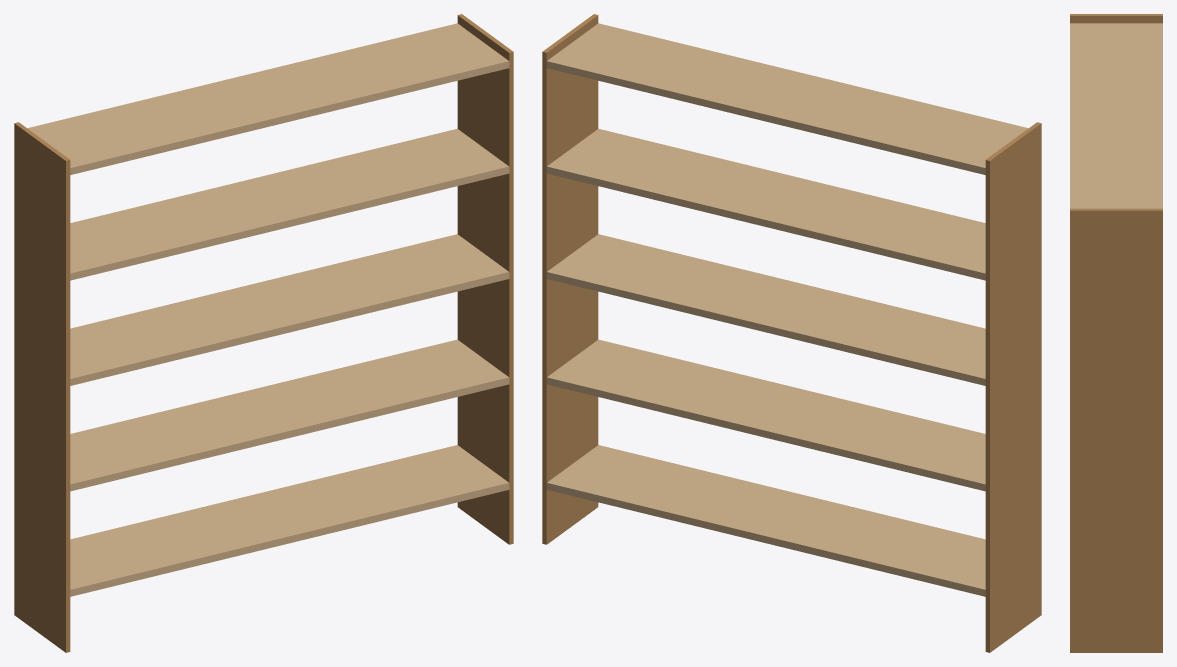
3 views of the same model, side by side, from view 1: azimuth 30°, elevation 25°; view 2: azimuth 150°, elevation 25°; view 3: azimuth 270°, elevation 25° (orthographic). The views are drawn at different scales.
Parts seen in each view (by area): view 1: estante_almacen_a; view 2: estante_almacen_a; view 3: estante_almacen_a.
Part boxes in pixels (left/top/right/bottom): estante_almacen_a: left=14, top=14, right=513, bottom=652; estante_almacen_a: left=542, top=14, right=1041, bottom=652; estante_almacen_a: left=1070, top=14, right=1162, bottom=652.
Size of the model in its own units: 2 by 0.4 by 2.1.
